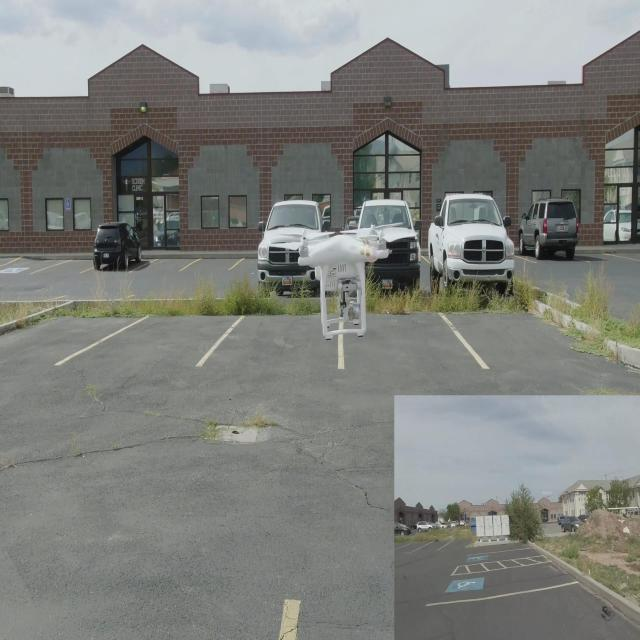drones: (266, 213, 426, 351)
